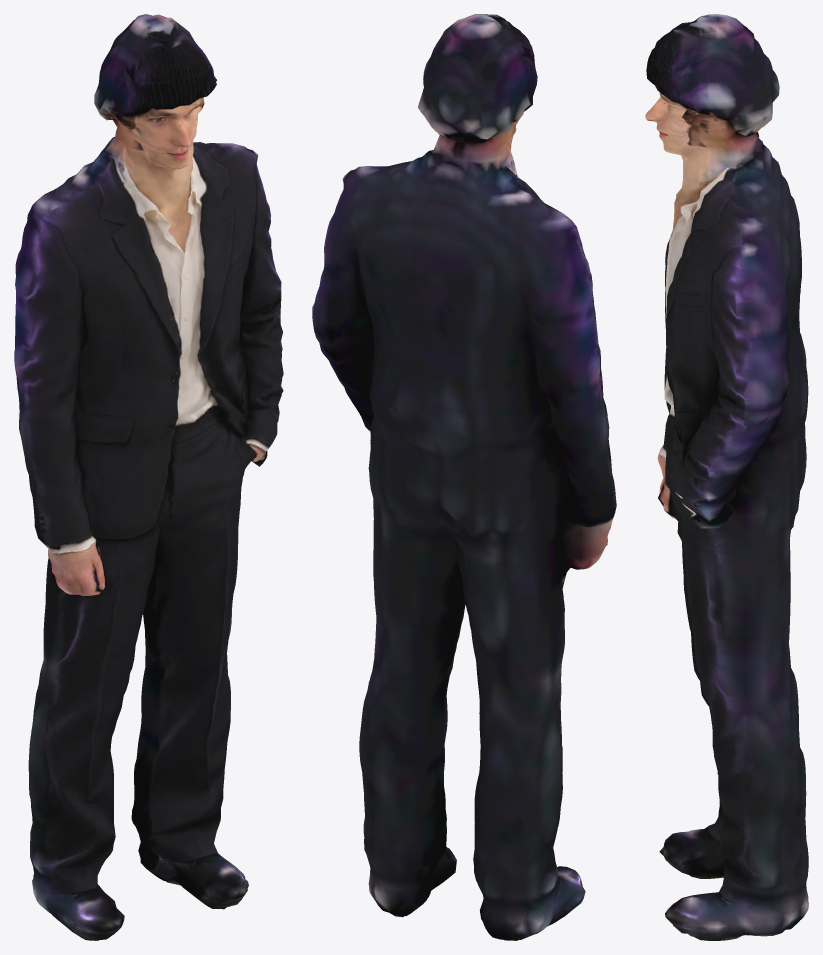
Rendered from portrait.glb.
3 renders of one model, left to right at view 1: azimuth 30°, elevation 25°; view 2: azimuth 150°, elevation 25°; view 3: azimuth 270°, elevation 25°, orthographic.
Parts seen in each view (by area): view 1: geometry_0; view 2: geometry_0; view 3: geometry_0.
Part boxes in pixels (x1=…): geometry_0: x1=14, y1=14, x2=283, y2=940; geometry_0: x1=312, y1=14, x2=616, y2=940; geometry_0: x1=645, y1=14, x2=808, y2=940.
Size of the model in its own units: 0.578 by 1.8 by 0.3.
Materials: 1 (1 with a texture image).
